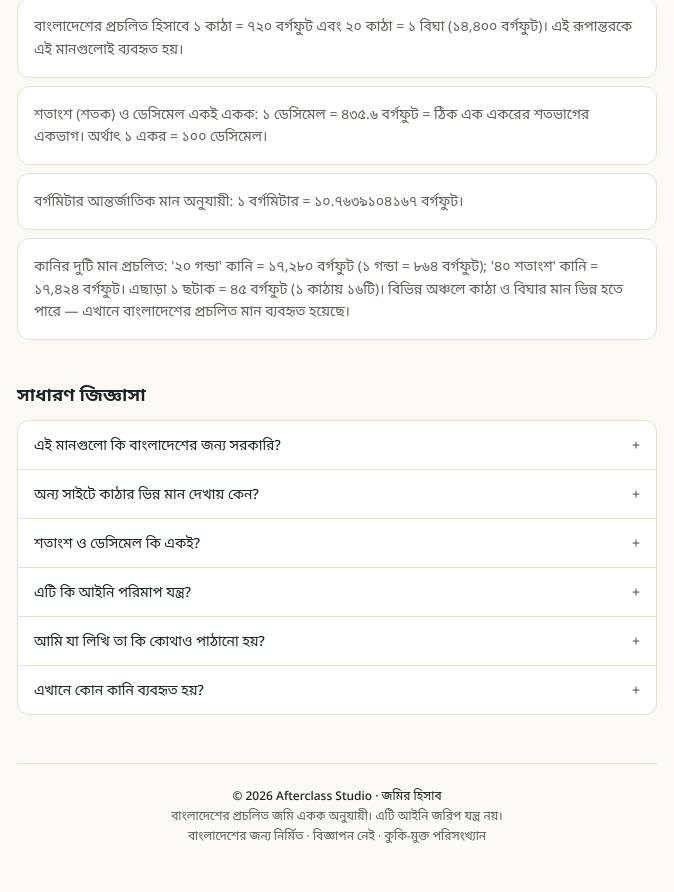
Test: App integration › FAQ includes the two-Kani item (6 items total)
(page scrolled)
// Open the 6th accordion and check its answer text (summary text is unique).
What coordinates should you click on to do the following:
click the heading "এখানে কোন কানি ব্যবহৃত হয়? +"
I would click on:
 (119, 690)
Its box is [34, 680, 640, 699].
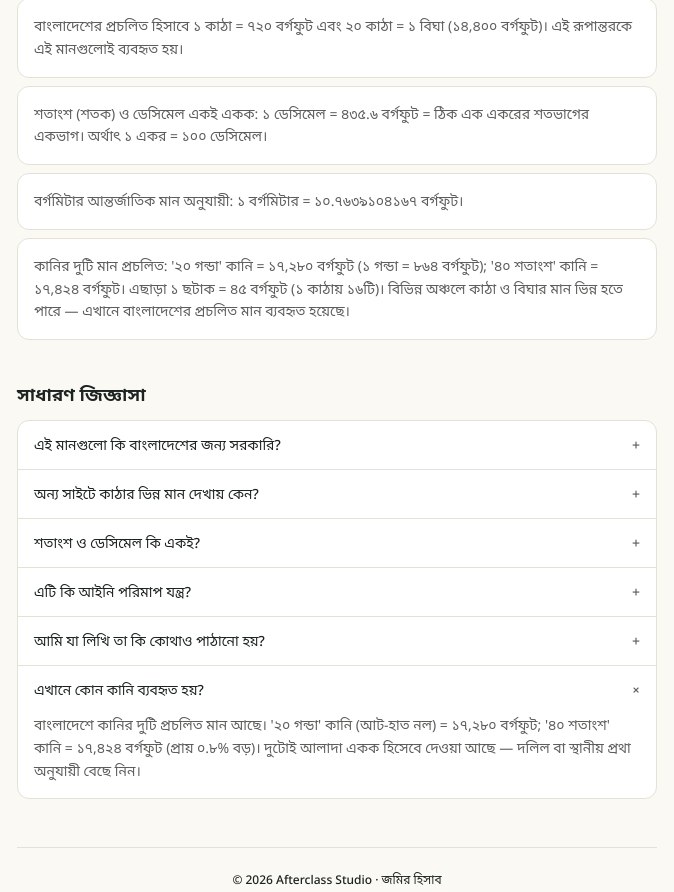
Result: the text "বাংলাদেশে কানির দুটি প্রচলিত মান আছে। '২০ গন্ডা' কানি (আট-হাত নল) = ১৭,২৮০ বর্গফুট; '৪০ শতাংশ' কানি = ১৭,৪২৪ বর্গফুট (প্" is shown at [34, 715, 631, 780]
